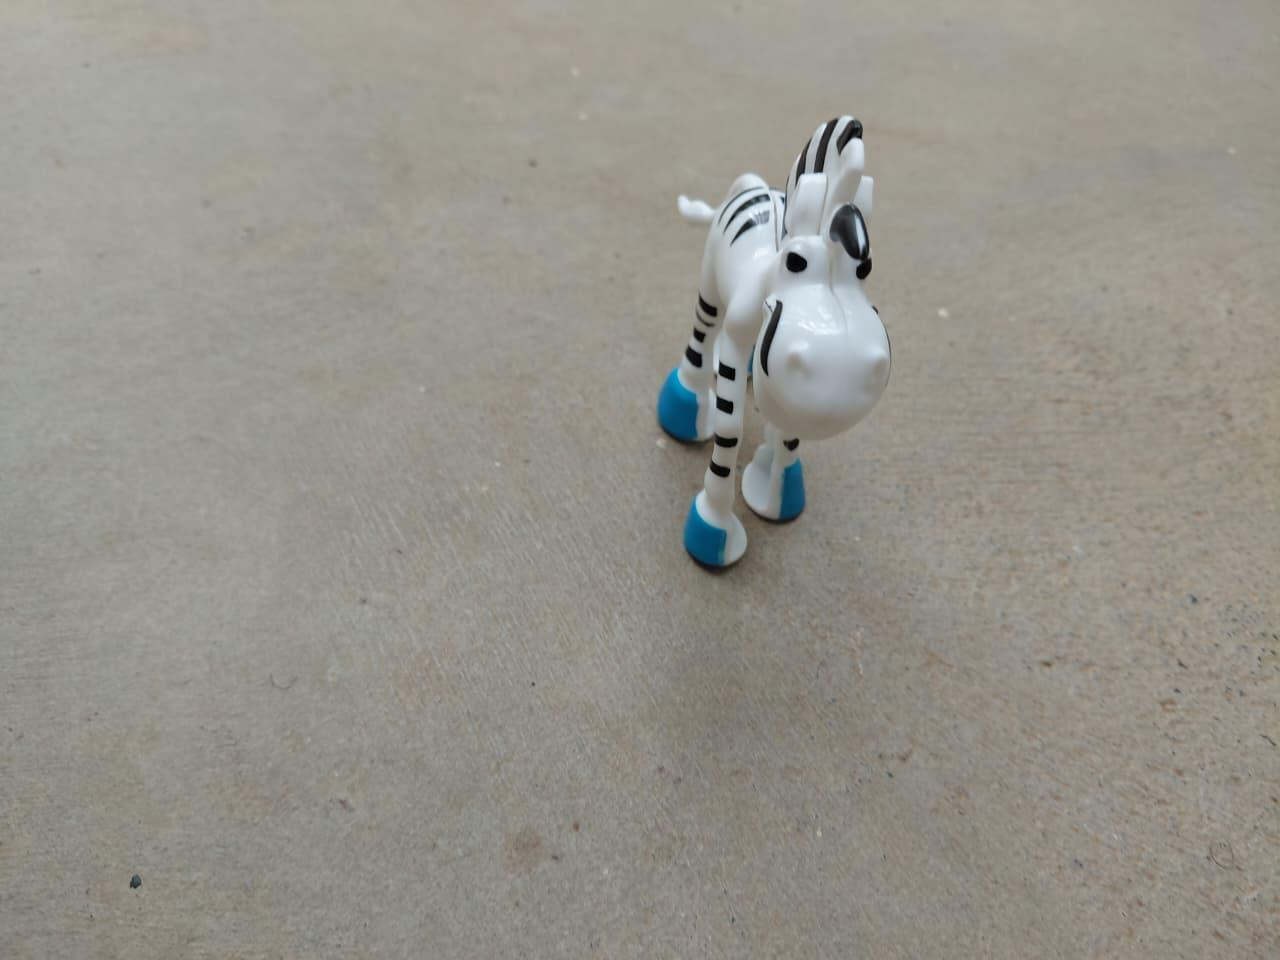zebra: (636, 112, 901, 583)
